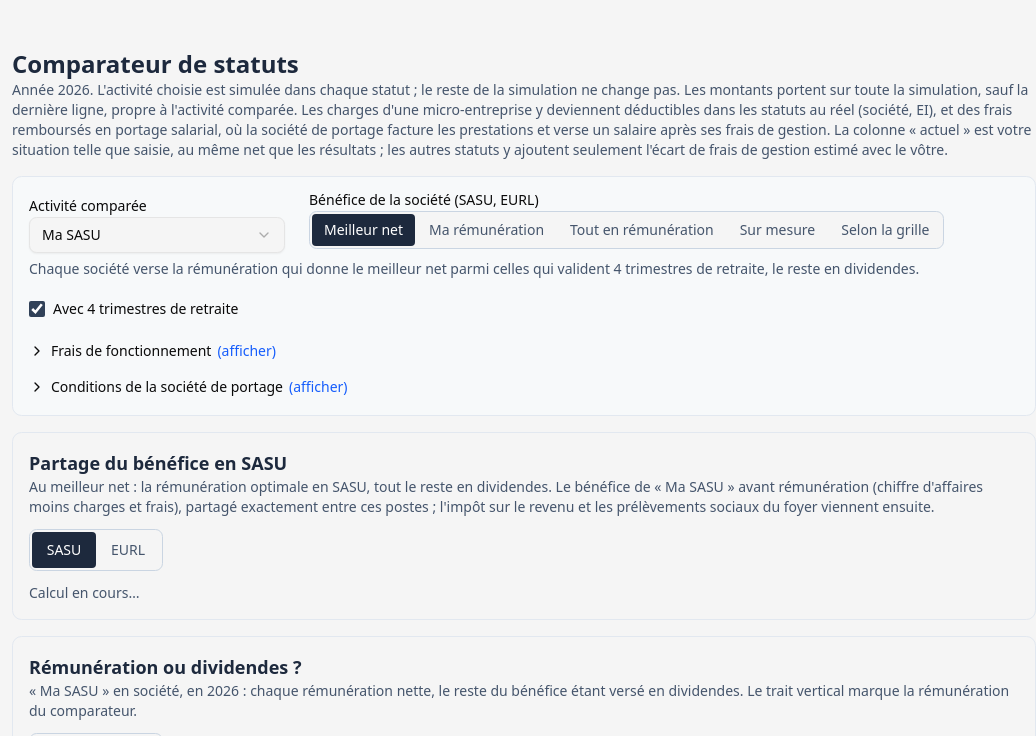
Test case: curseur de la rémunération saisie › sans bénéfice, n'a pas de curseur et le dit
Click the radio button labelled "Ma rémunération": (486, 230) x1=429 y1=220 x2=544 y2=239
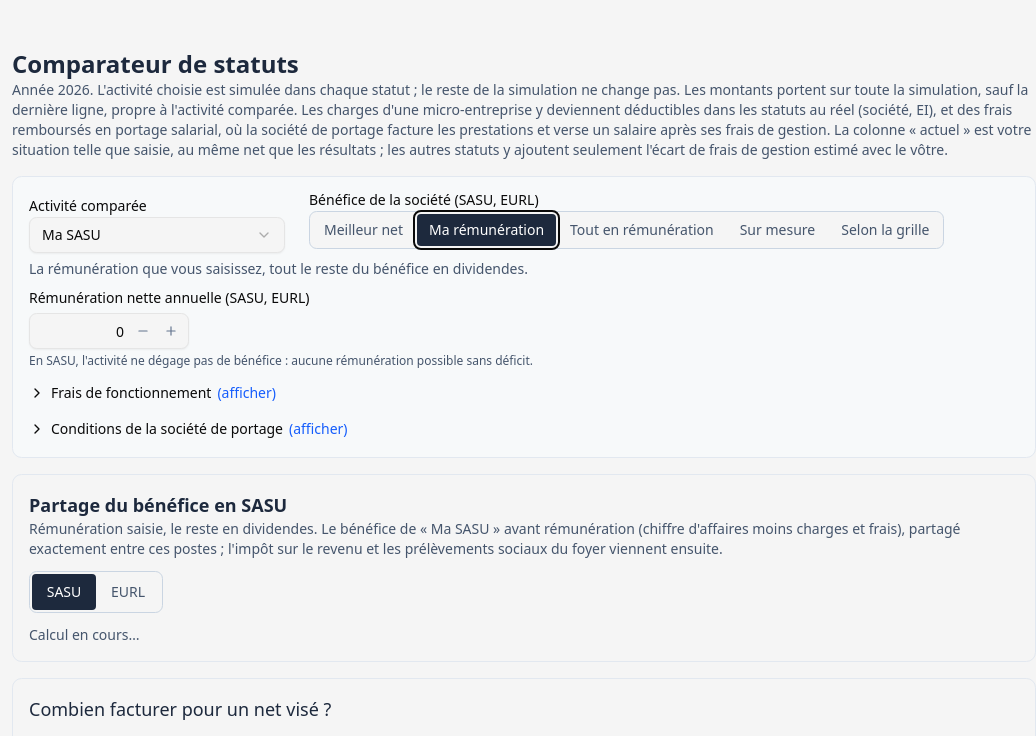
Check: the text "En SASU, l'activité ne dégage pas de bénéfice : aucune rémunération possible sans déficit." is shown, box x1=29 y1=352 x2=533 y2=369
Check: the number field labelled "Rémunération nette annuelle (SASU, EURL)" is shown, box x1=29 y1=313 x2=189 y2=349
